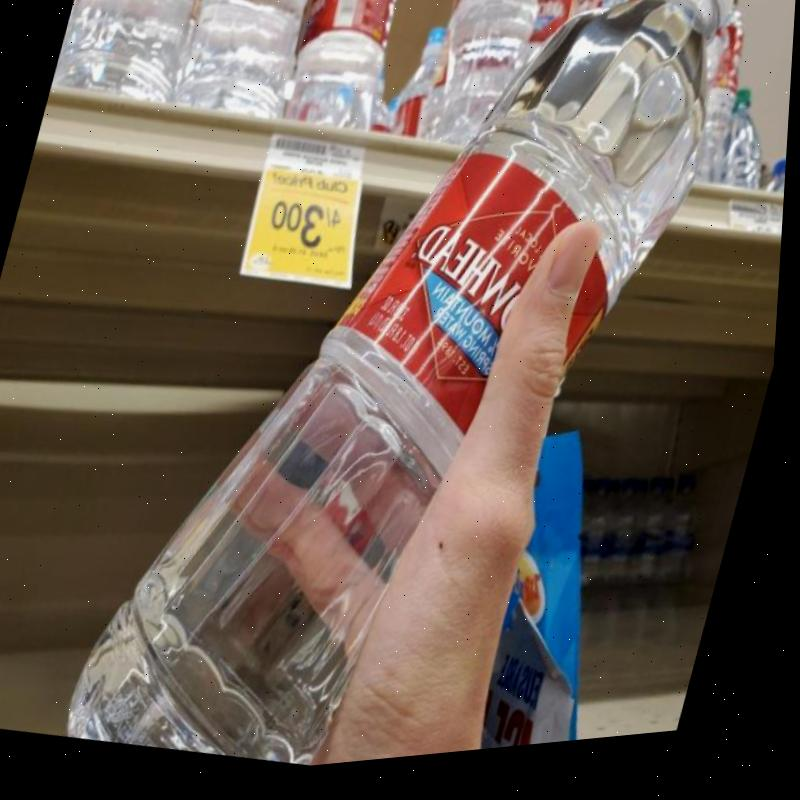botella: (65, 0, 750, 792), (414, 0, 551, 162), (169, 0, 321, 145), (276, 0, 413, 159), (47, 0, 212, 127), (672, 18, 760, 202), (714, 100, 789, 212), (656, 483, 721, 602), (629, 486, 685, 607), (393, 31, 448, 148), (601, 488, 654, 606), (575, 488, 625, 604), (522, 0, 587, 87), (364, 72, 408, 143), (580, 0, 656, 37), (766, 172, 789, 217), (387, 102, 404, 127)
